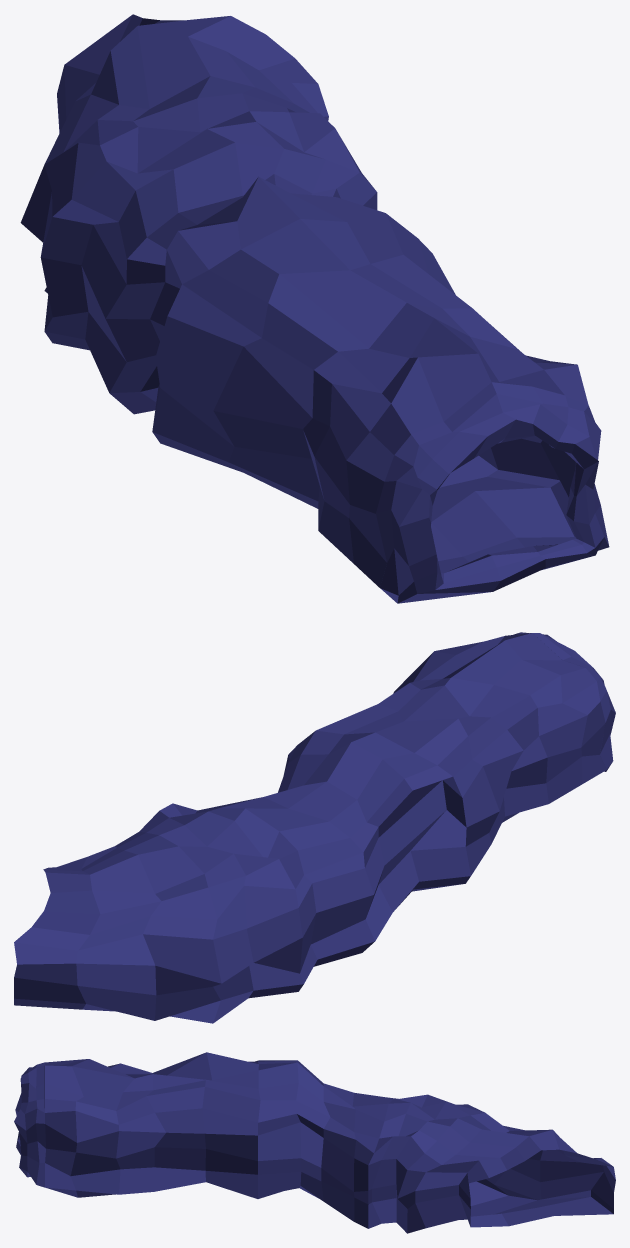
File: caveagoravai.fbx
3 views of the same model, one above another, from view 1: azimuth 30°, elevation 25°; view 2: azimuth 150°, elevation 25°; view 3: azimuth 270°, elevation 25° (orthographic). The views are drawn at different scales.
Visible parts, largest first — view 1: Plane; view 2: Plane; view 3: Plane.
Boxes of the visible parts, x1,y1,x2,y2 form: Plane: (20,14,609,603); Plane: (14,632,615,1023); Plane: (14,1052,615,1233).
Size of the model in its own units: 3.51 by 2.28 by 9.27.
